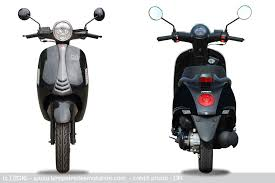motorcycle: (148, 4, 251, 174), (16, 4, 107, 174)
